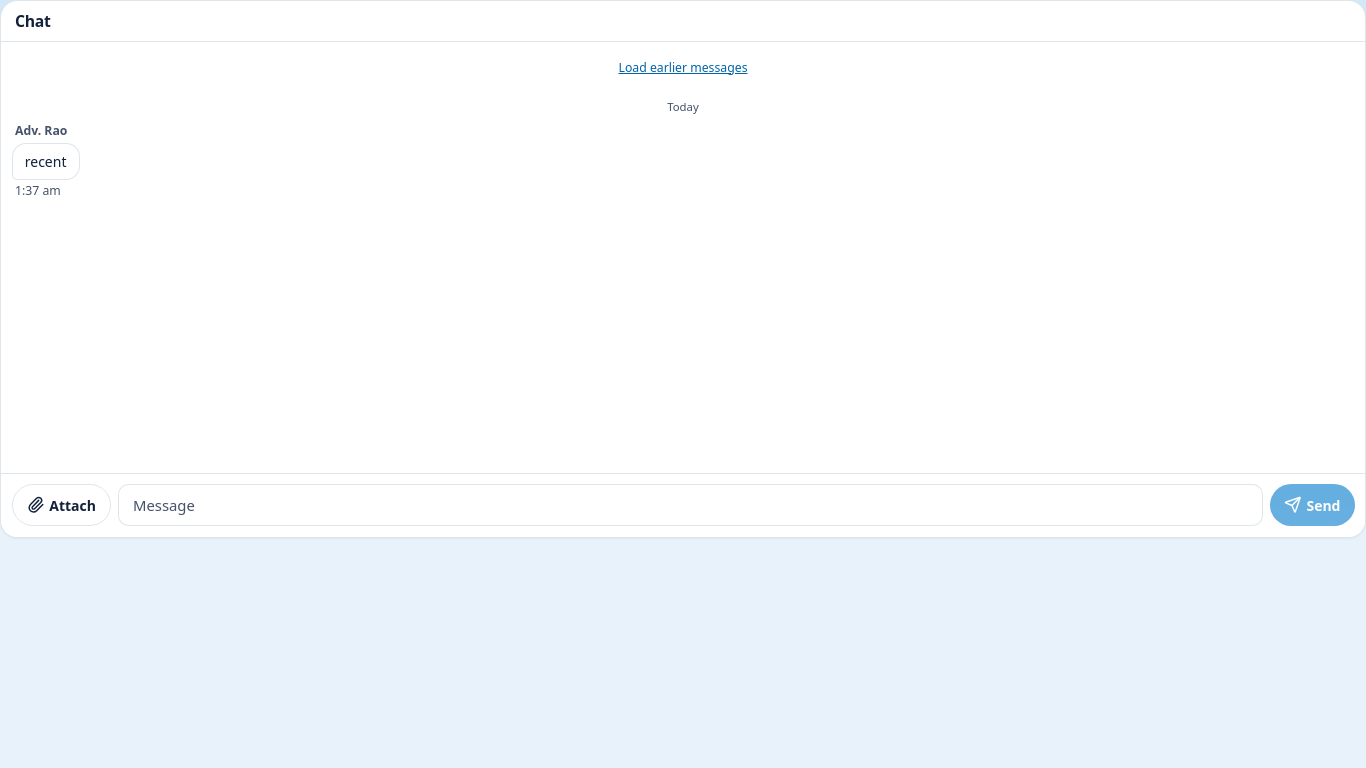
Scenario: reading the thread › pages back through history from the top
Click the button "Load earlier messages" at (683, 68), box top-left (618, 52), bottom-right (748, 84)
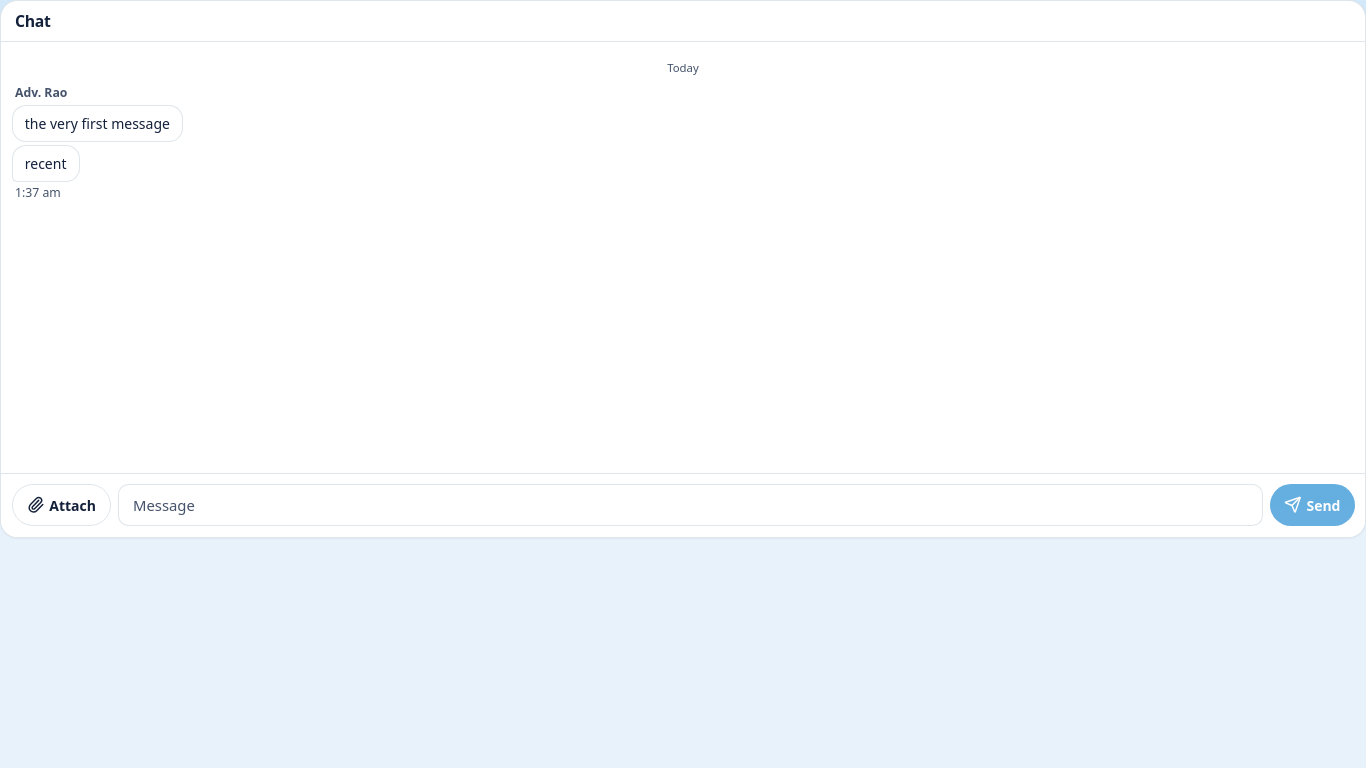
Expected: the text "recent" is shown, top-left (25, 154), bottom-right (66, 173)
Result: the text "the very first message" is shown at top-left (25, 114), bottom-right (170, 132)
Result: the button "Load earlier messages" is gone
